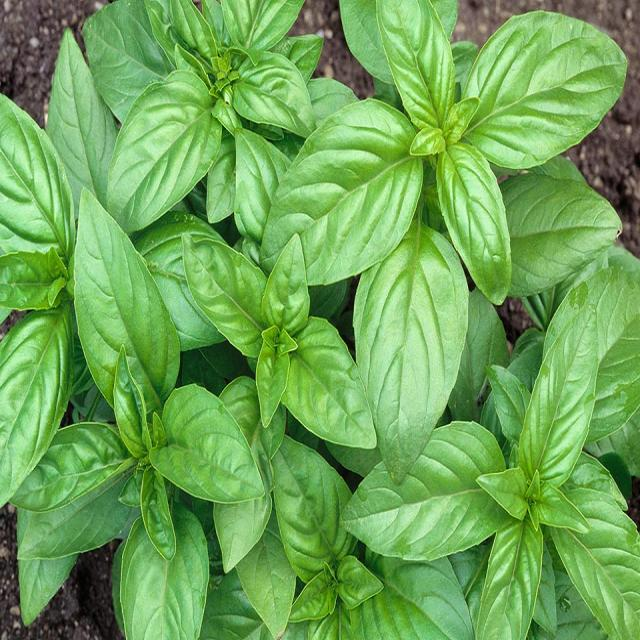Sweet Basil: (273, 0, 637, 419), (47, 181, 280, 581), (2, 31, 230, 414), (392, 323, 639, 639), (79, 0, 373, 225), (217, 403, 479, 636)
